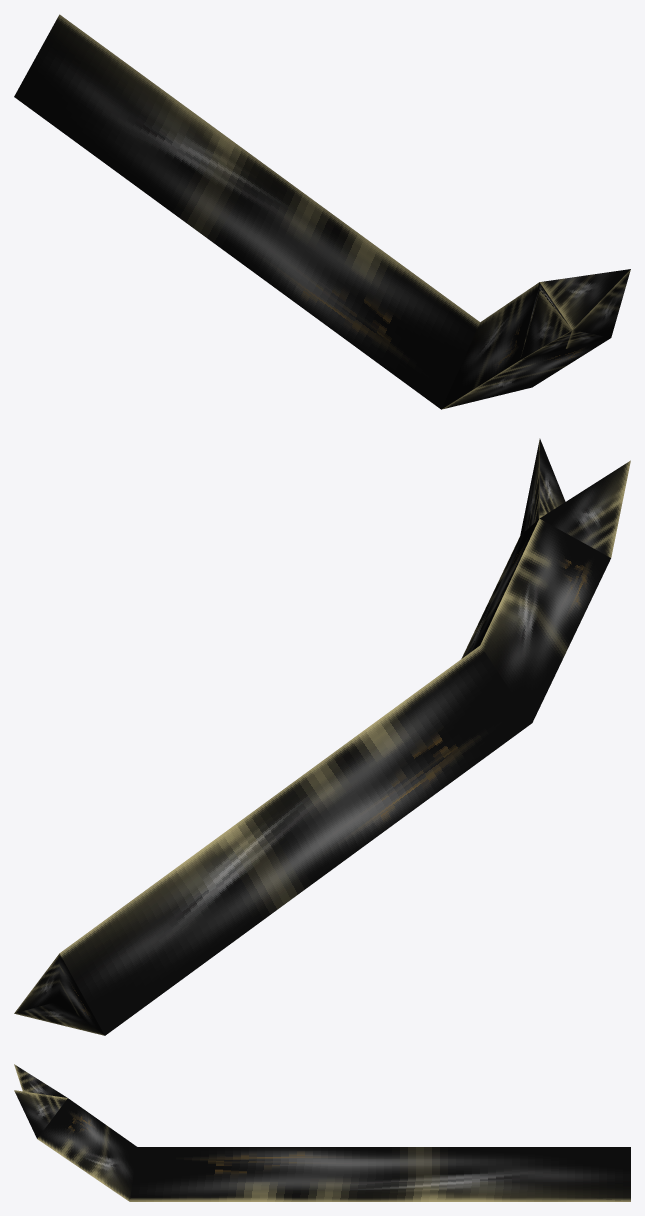
3 views of the same model, one above another, from view 1: azimuth 30°, elevation 25°; view 2: azimuth 150°, elevation 25°; view 3: azimuth 270°, elevation 25° (orthographic). The views are drawn at different scales.
Visible parts, largest first — view 1: prim234-crowbar; view 2: prim234-crowbar; view 3: prim234-crowbar.
Boxes of the visible parts, x1,y1,x2,y2 form: prim234-crowbar: (14,14,630,409); prim234-crowbar: (14,438,630,1035); prim234-crowbar: (14,1064,630,1201).
Bounding box in the file's own units: 8 × 16 × 80.
Materials: 1 (1 with a texture image).
